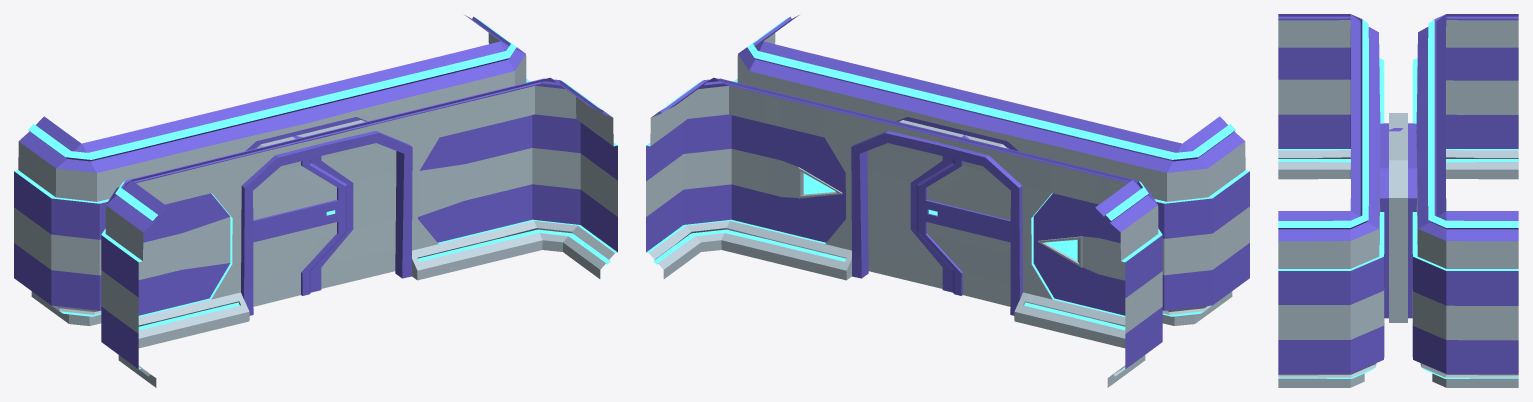
Rendered from DoorWay_A.fbx.
The picture shows the model from 3 angles, left to right: view 1: azimuth 30°, elevation 25°; view 2: azimuth 150°, elevation 25°; view 3: azimuth 270°, elevation 25°; orthographic projection. The views are drawn at different scales.
Parts seen in each view (by area): view 1: DoorFrame_A, Door_A; view 2: DoorFrame_A, Door_A; view 3: DoorFrame_A.
Part boxes in pixels (bbox=[...]): DoorFrame_A: bbox=[14, 15, 617, 387]; Door_A: bbox=[253, 136, 396, 306]; DoorFrame_A: bbox=[646, 15, 1249, 387]; Door_A: bbox=[867, 135, 1010, 306]; DoorFrame_A: bbox=[1278, 14, 1518, 387].
Size of the model in its own units: 1951 by 691 by 879.
